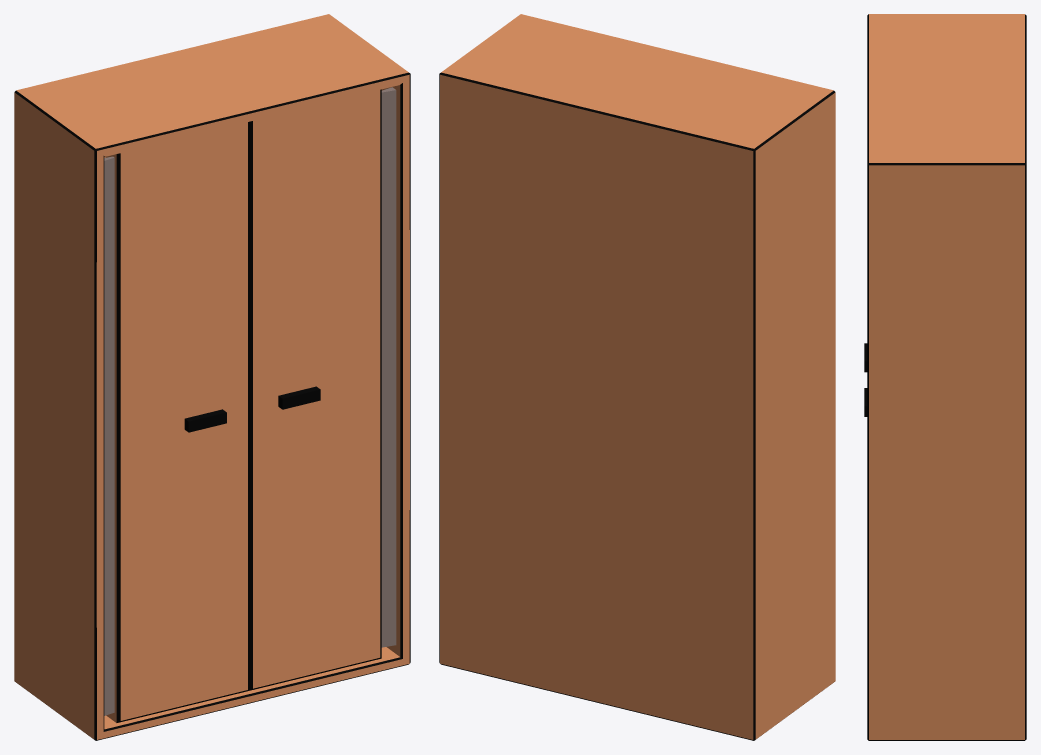
The model's file is Cabinet.fbx.
3 renders of one model, left to right at view 1: azimuth 30°, elevation 25°; view 2: azimuth 150°, elevation 25°; view 3: azimuth 270°, elevation 25°, orthographic. The views are drawn at different scales.
Visible parts, largest first — view 1: Cabinet, Door 0, Door 1, Hindges; view 2: Cabinet; view 3: Cabinet.
Boxes of the visible parts, x1,y1,x2,y2 form: Cabinet: [14, 14, 410, 740]; Door 0: [105, 122, 248, 722]; Door 1: [249, 89, 381, 690]; Hindges: [104, 87, 396, 715]; Cabinet: [439, 14, 835, 740]; Cabinet: [867, 14, 1026, 740].
Bounding box in the file's own units: 224 × 400 × 102.
